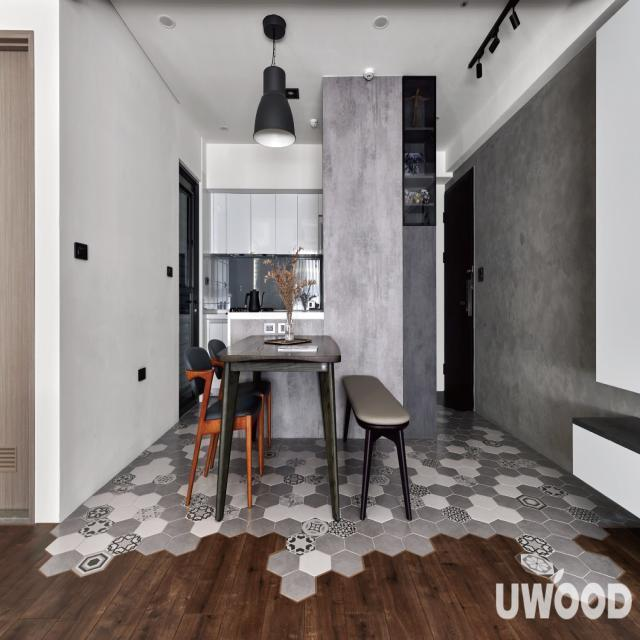table: (185, 320, 418, 532)
